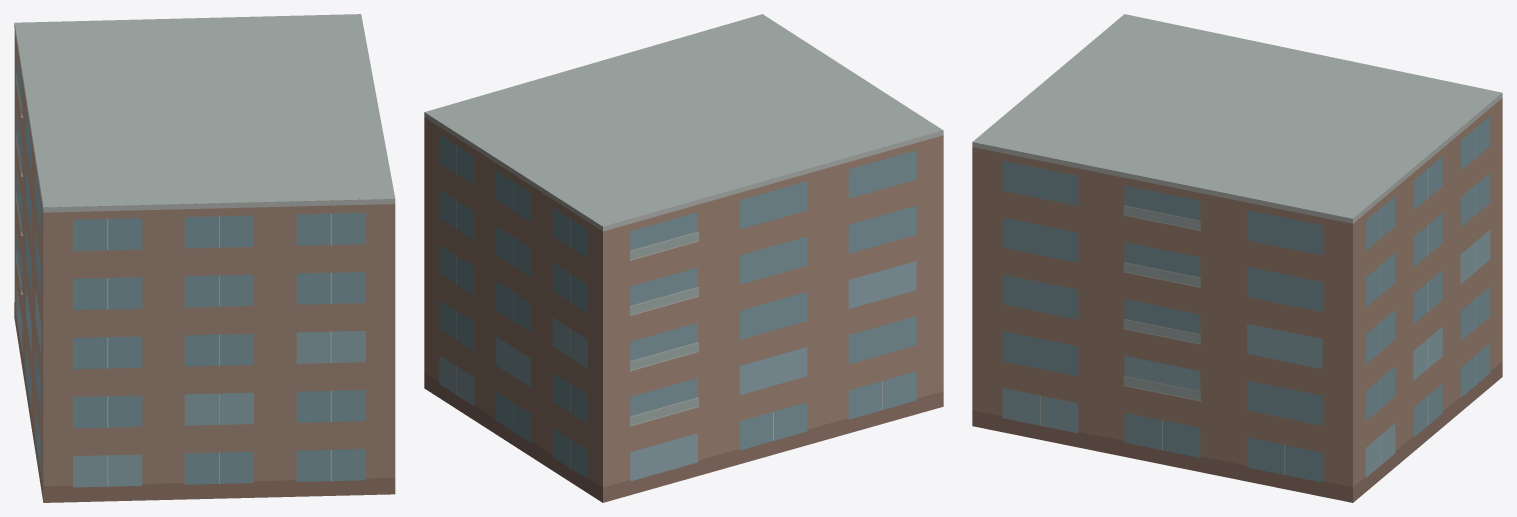
The model's file is survey-upis-32770464.glb.
3 views of the same model, side by side, from view 1: azimuth 30°, elevation 25°; view 2: azimuth 150°, elevation 25°; view 3: azimuth 270°, elevation 25° (orthographic). The views are drawn at different scales.
Visible parts, largest first — view 1: survey-upis-32770464.tmp; view 2: survey-upis-32770464.tmp; view 3: survey-upis-32770464.tmp.
Boxes of the visible parts, <box> form: survey-upis-32770464.tmp: <box>14,14,395,502</box>; survey-upis-32770464.tmp: <box>424,14,943,502</box>; survey-upis-32770464.tmp: <box>972,14,1502,502</box>.
Bounding box in the file's own units: 21.51 × 13.9 × 23.53.
